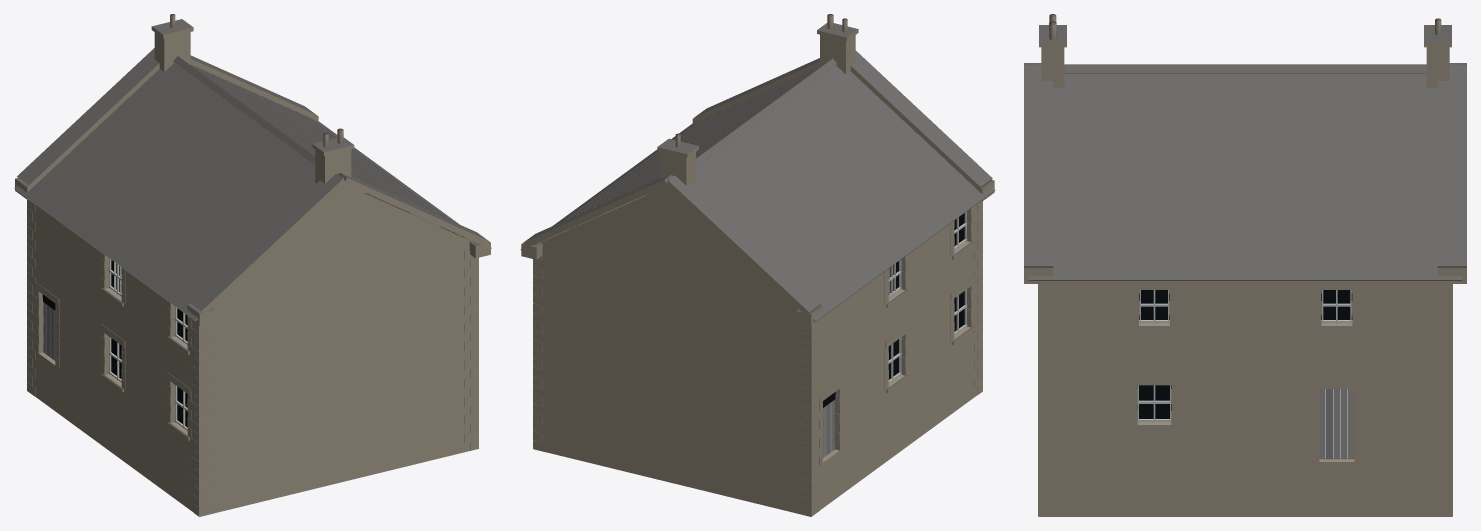
The model's file is context.dales.house_21.glb.
The picture shows the model from 3 angles, left to right: view 1: azimuth 30°, elevation 25°; view 2: azimuth 150°, elevation 25°; view 3: azimuth 270°, elevation 25°; orthographic projection. The views are drawn at different scales.
Visible parts, largest first — view 1: main__stone_a98, main__slate_666, main__paint_ccc, main__glass_dark; view 2: main__stone_a98, main__slate_666, main__paint_ccc, main__glass_dark; view 3: main__slate_666, main__stone_a98, main__glass_dark, main__paint_999, main__paint_ccc.
Boxes of the visible parts, box(x1,y1,x2,y2) form: main__stone_a98: box(14, 15, 491, 516); main__slate_666: box(14, 14, 490, 507); main__paint_ccc: box(108, 258, 187, 430); main__glass_dark: box(42, 260, 187, 427); main__stone_a98: box(520, 16, 994, 516); main__slate_666: box(522, 14, 994, 507); main__paint_ccc: box(888, 211, 967, 382); main__glass_dark: box(823, 213, 964, 407); main__slate_666: box(1024, 14, 1466, 506); main__stone_a98: box(1024, 15, 1466, 516); main__glass_dark: box(1137, 290, 1352, 418); main__paint_999: box(1319, 389, 1347, 459); main__paint_ccc: box(1137, 290, 1352, 422).
Bounding box in the file's own units: 10.17 × 11.35 × 10.94.
